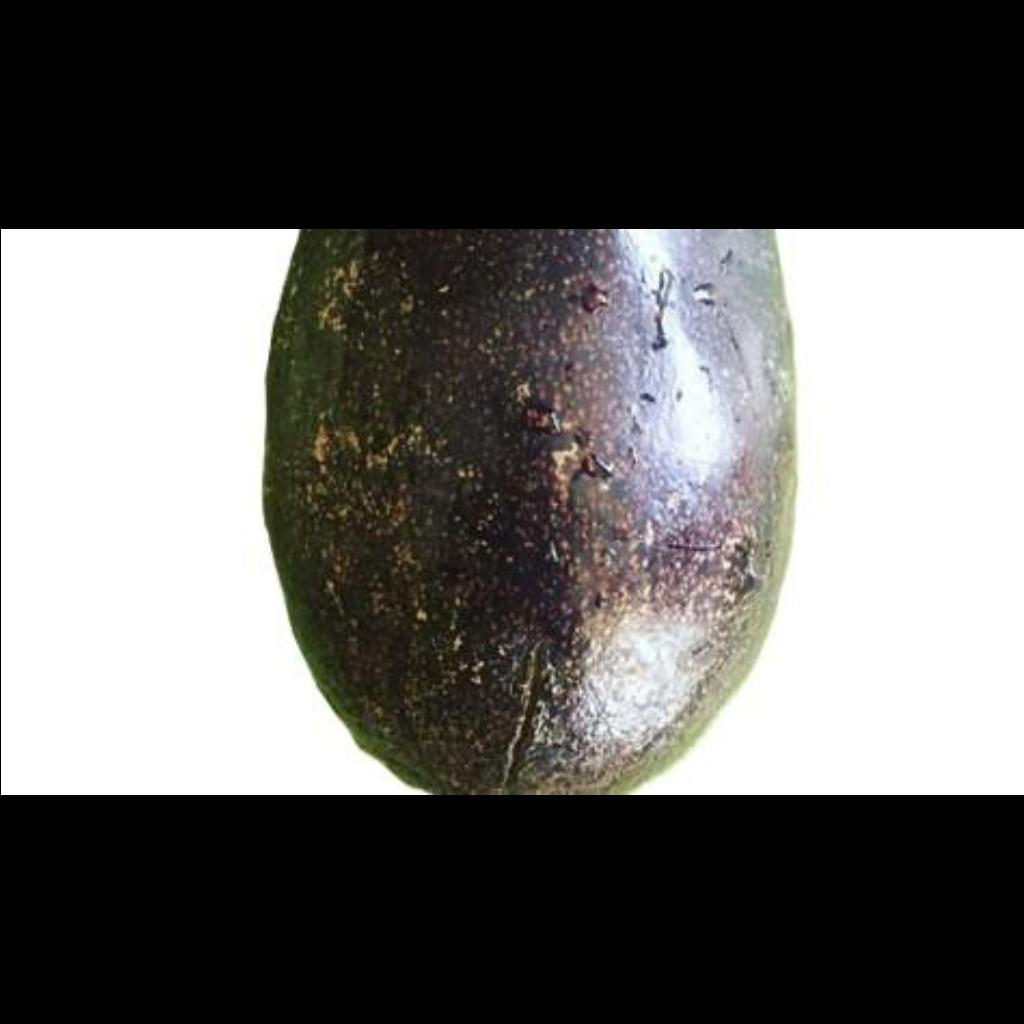Healthy: (270, 234, 806, 780)
